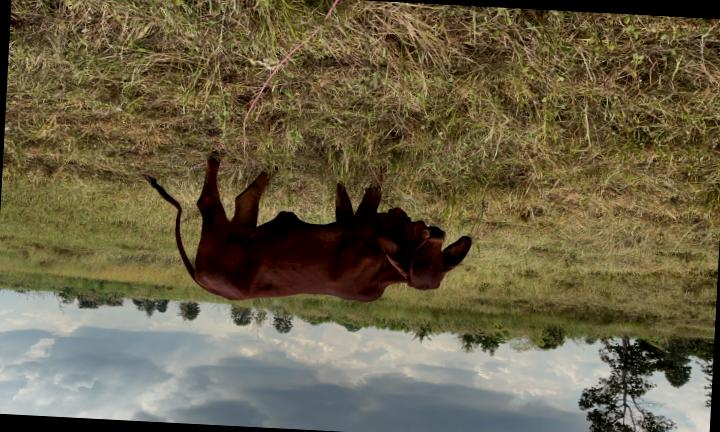Brahman: (145, 158, 471, 302)
